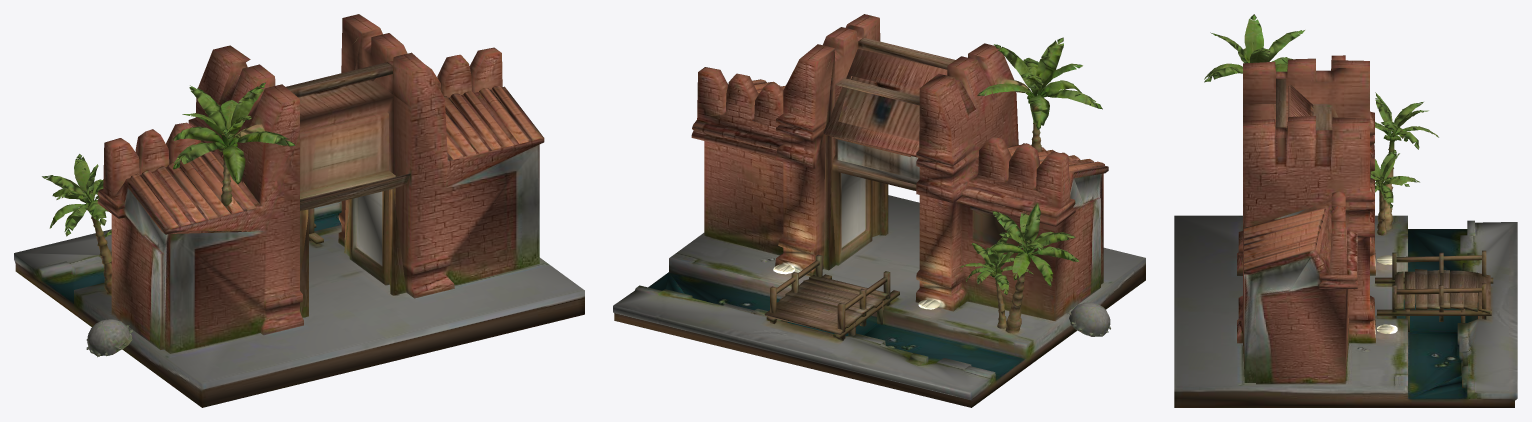
File: lm_tha_phae.glb
3 renders of one model, left to right at view 1: azimuth 30°, elevation 25°; view 2: azimuth 150°, elevation 25°; view 3: azimuth 270°, elevation 25°, orthographic. The views are drawn at different scales.
Visible parts, largest first — view 1: Body; view 2: Body; view 3: Body.
Part boxes in pixels (x1,y1,x2,y2): Body: (14,14,584,407); Body: (613,14,1145,407); Body: (1174,14,1517,407).
Size of the model in its own units: 30 by 17.79 by 23.19.
2 materials, 2 textured.
